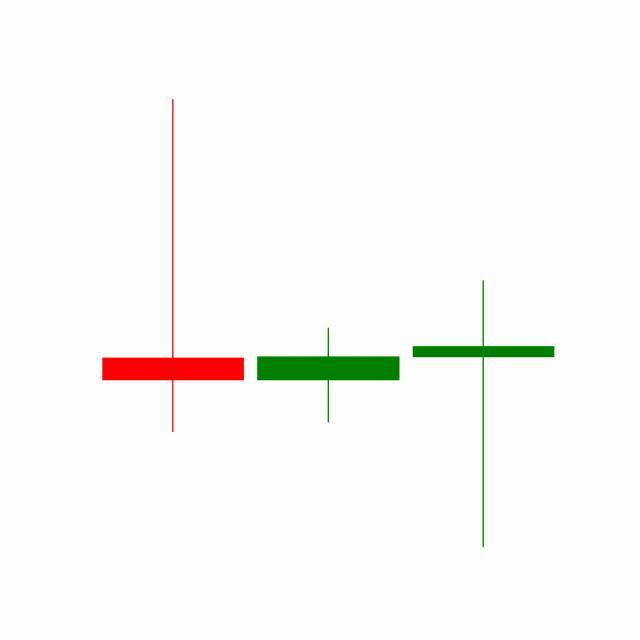Hammer: (250, 327, 407, 425)
